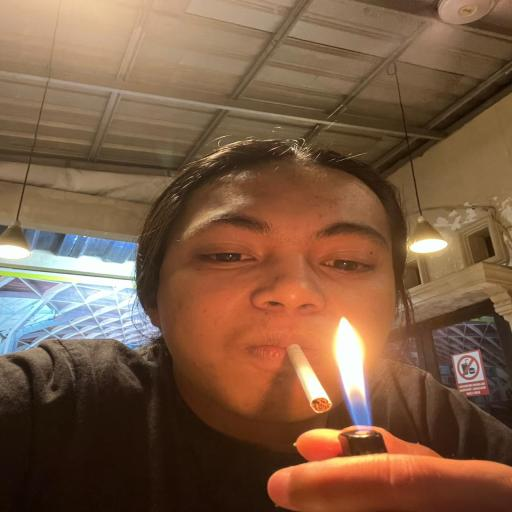membakar rokok: (205, 252, 441, 479)
